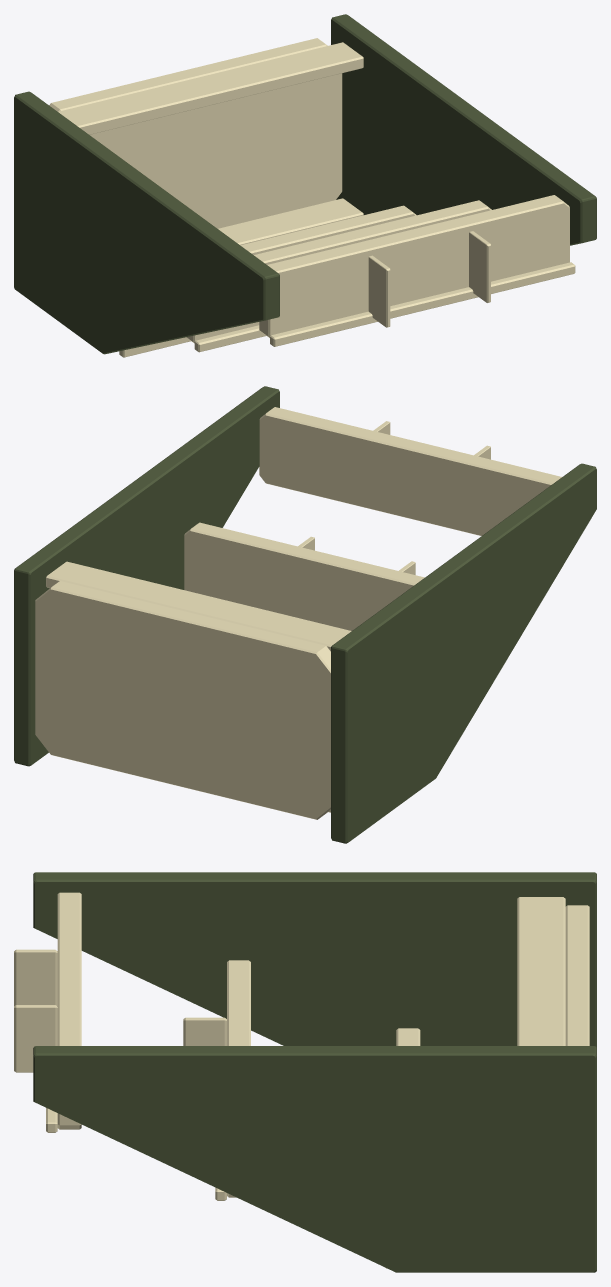
The model's file is fixture_14_stationery_stand.glb.
3 views of the same model, one above another, from view 1: azimuth 30°, elevation 25°; view 2: azimuth 150°, elevation 25°; view 3: azimuth 270°, elevation 25° (orthographic). The views are drawn at different scales.
Visible parts, largest first — view 1: fixture_14_stationery_stand; view 2: fixture_14_stationery_stand; view 3: fixture_14_stationery_stand.
Part boxes in pixels (left/top/right/bottom): fixture_14_stationery_stand: left=14, top=14, right=596, bottom=357; fixture_14_stationery_stand: left=14, top=386, right=596, bottom=843; fixture_14_stationery_stand: left=14, top=872, right=596, bottom=1272.
Size of what is drawn, in the model's own units: 0.895 by 0.51 by 1.21.
